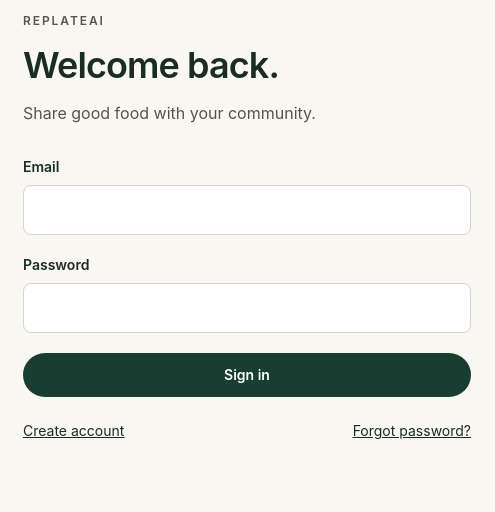
auth UI › shows linked validation errors without sending invalid login
Click the button "Sign in".
click(247, 375)  # box [23,353,471,397]
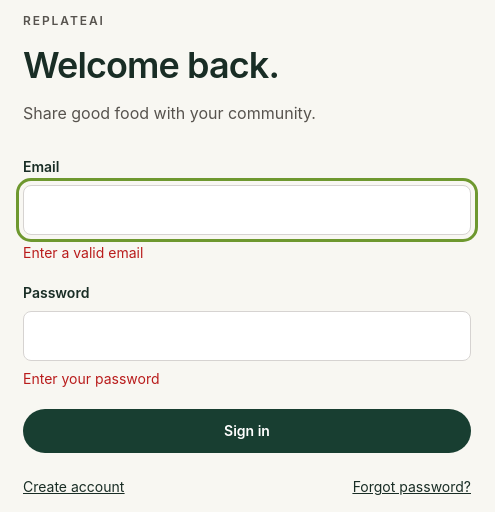
Expected: the text "Enter a valid email" is shown, [23,244,143,261]
